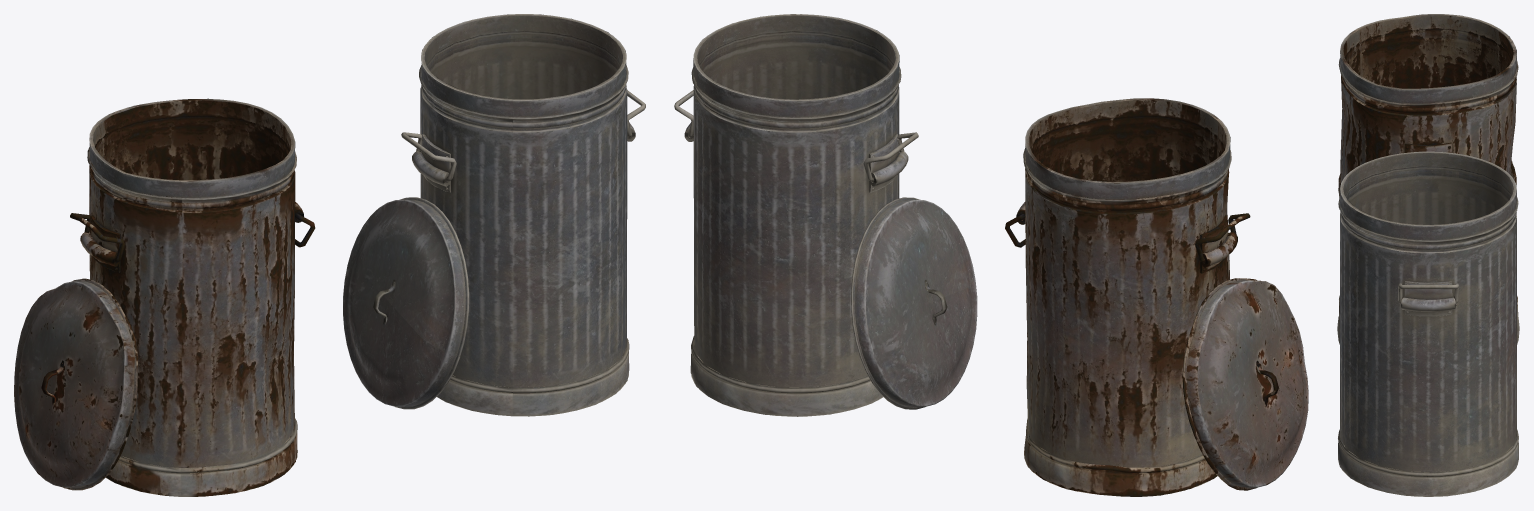
File: metal_trash_can.glb
3 views of the same model, side by side, from view 1: azimuth 30°, elevation 25°; view 2: azimuth 150°, elevation 25°; view 3: azimuth 270°, elevation 25° (orthographic). The views are drawn at different scales.
Visible parts, largest first — view 1: metal_trash_can; view 2: metal_trash_can; view 3: metal_trash_can.
Part boxes in pixels (<box>): metal_trash_can: <box>14,14,645,496</box>; metal_trash_can: <box>674,14,1308,496</box>; metal_trash_can: <box>1337,14,1519,496</box>.
Size of the model in its own units: 6.35 by 3.24 by 1.98.
3 materials, 3 textured.
